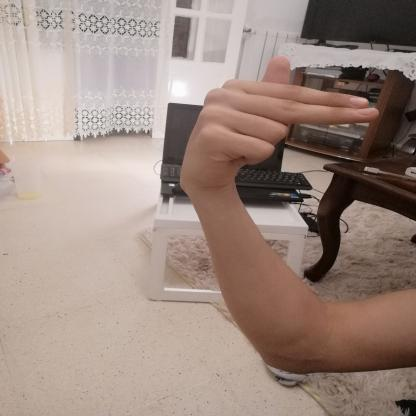GHAYN: (169, 44, 395, 201)
